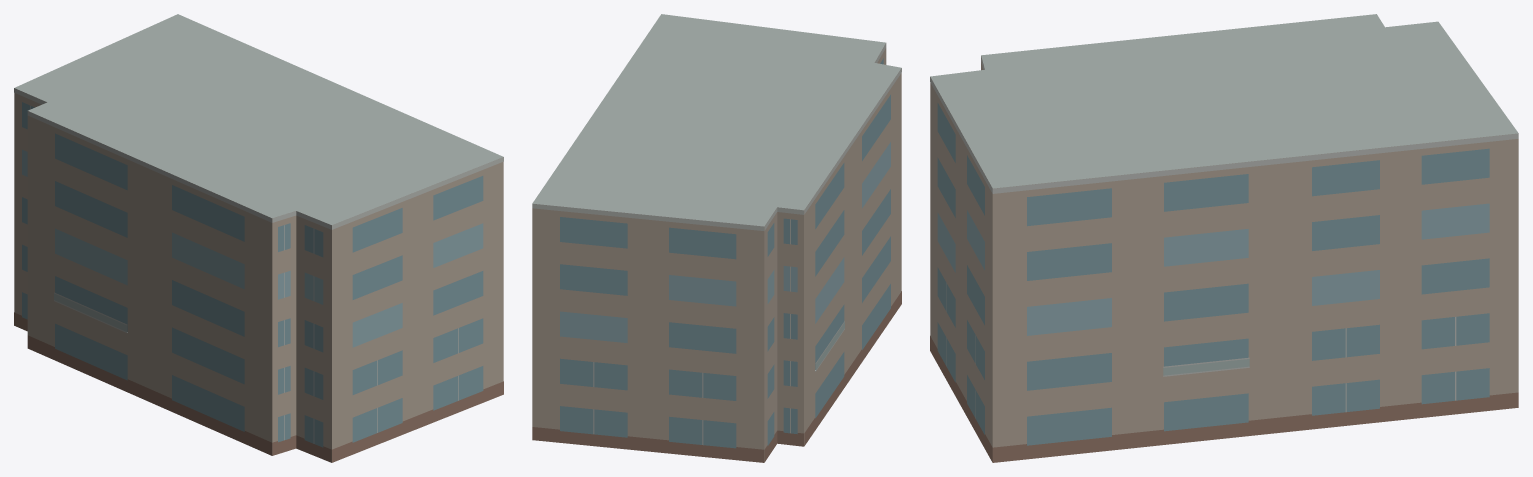
File: survey-upis-32942204.glb
The picture shows the model from 3 angles, left to right: view 1: azimuth 30°, elevation 25°; view 2: azimuth 150°, elevation 25°; view 3: azimuth 270°, elevation 25°; orthographic projection. The views are drawn at different scales.
Visible parts, largest first — view 1: survey-upis-32942204.tmp; view 2: survey-upis-32942204.tmp; view 3: survey-upis-32942204.tmp.
Boxes of the visible parts, x1,y1,x2,y2 form: survey-upis-32942204.tmp: (14,14,503,462); survey-upis-32942204.tmp: (532,14,901,462); survey-upis-32942204.tmp: (930,14,1518,462).
Size of the model in its own units: 16.93 by 12.4 by 24.12.
